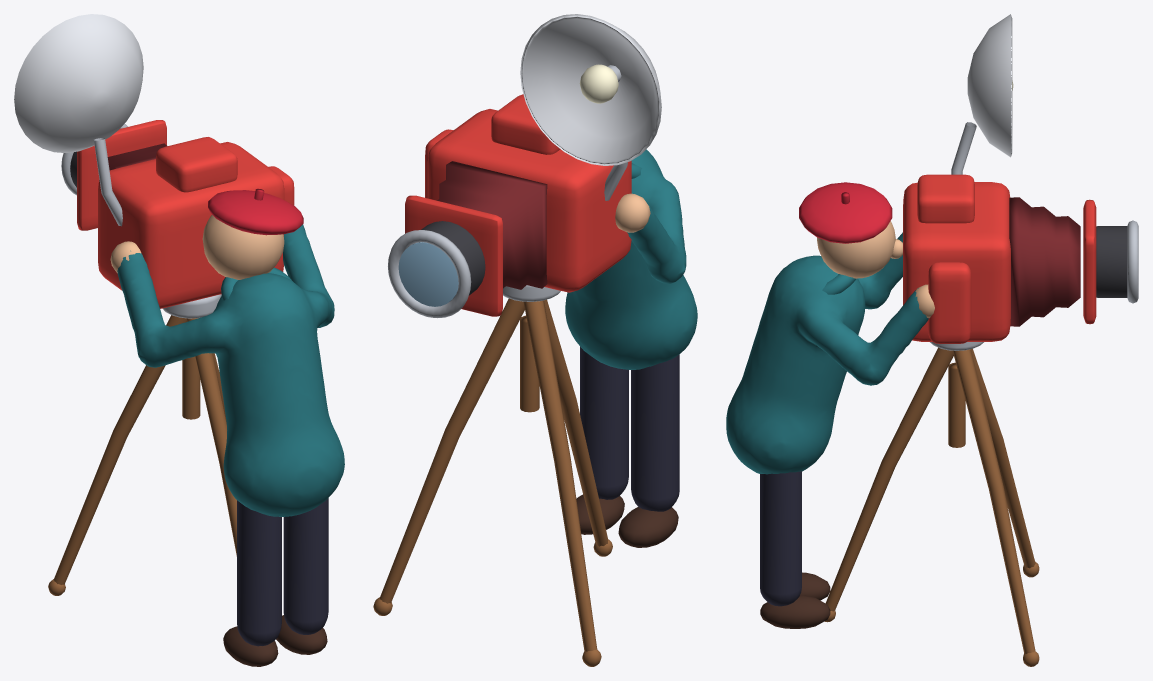
File: SlaparazziCamera.obj
3 renders of one model, left to right at view 1: azimuth 30°, elevation 25°; view 2: azimuth 150°, elevation 25°; view 3: azimuth 270°, elevation 25°, orthographic. The views are drawn at different scales.
Parts seen in each view (by area): view 1: Coat, Body, Dish, Pants, Tripod, Skin, Beret, Shoes, Chrome, Bellows; view 2: Body, Tripod, Coat, Dish, Pants, Bellows, Chrome, Glass, Shoes, Lens, Bulb, Skin; view 3: Coat, Body, Tripod, Bellows, Pants, Dish, Beret, Skin, Shoes, Lens, Chrome.
Part boxes in pixels (<box>): Coat: <box>117,224,344,516</box>; Body: <box>77,120,294,308</box>; Dish: <box>14,14,143,152</box>; Pants: <box>237,498,328,646</box>; Tripod: <box>48,315,236,595</box>; Skin: <box>110,215,284,279</box>; Beret: <box>208,188,303,235</box>; Shoes: <box>223,615,327,666</box>; Chrome: <box>61,123,221,318</box>; Bellows: <box>107,143,167,170</box>; Body: <box>405,94,631,316</box>; Tripod: <box>373,298,612,666</box>; Coat: <box>565,149,697,369</box>; Dish: <box>520,14,661,165</box>; Pants: <box>580,346,679,511</box>; Bellows: <box>437,161,547,289</box>; Chrome: <box>388,65,627,318</box>; Glass: <box>398,242,458,306</box>; Shoes: <box>576,494,678,547</box>; Lens: <box>413,221,485,295</box>; Bulb: <box>579,64,618,103</box>; Skin: <box>615,193,650,232</box>; Coat: <box>726,232,928,474</box>; Body: <box>903,174,1096,343</box>; Tripod: <box>824,347,1039,666</box>; Bellows: <box>1009,197,1080,326</box>; Pants: <box>760,471,801,606</box>; Dish: <box>967,14,1012,157</box>; Beret: <box>799,182,892,243</box>; Skin: <box>817,221,934,317</box>; Shoes: <box>760,572,830,628</box>; Lens: <box>1096,226,1127,297</box>; Chrome: <box>930,122,1138,350</box>.
Size of the model in its own units: 3.89 by 8.62 by 5.74.
